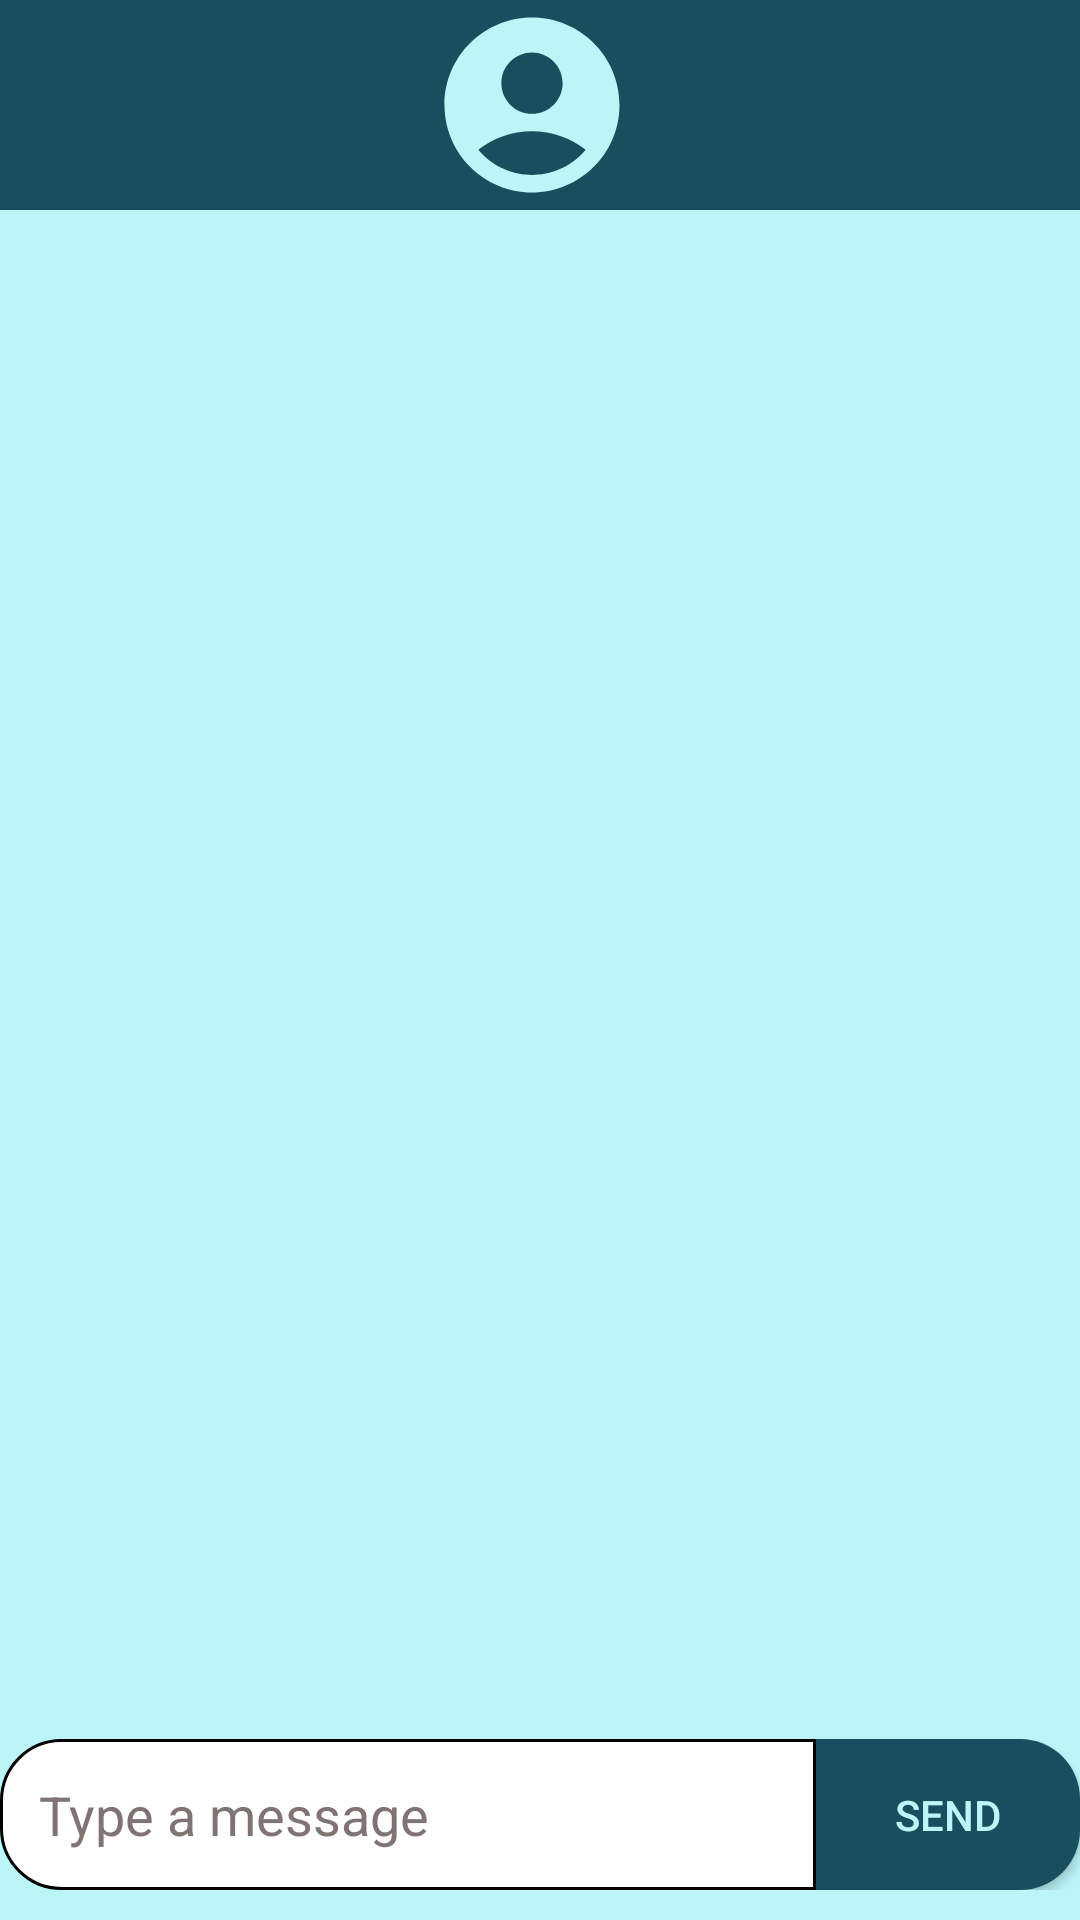

Icon click points for this 1080px×1920px phone screenshot, format [x,y]:
person: [532,105]
